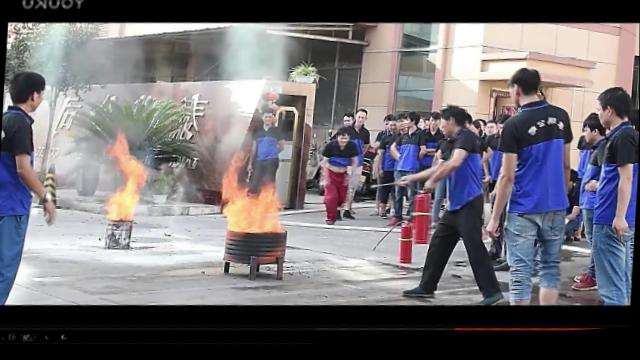fire: (227, 186, 284, 236), (108, 188, 138, 222), (125, 162, 146, 194), (112, 134, 131, 167), (222, 166, 239, 200)
